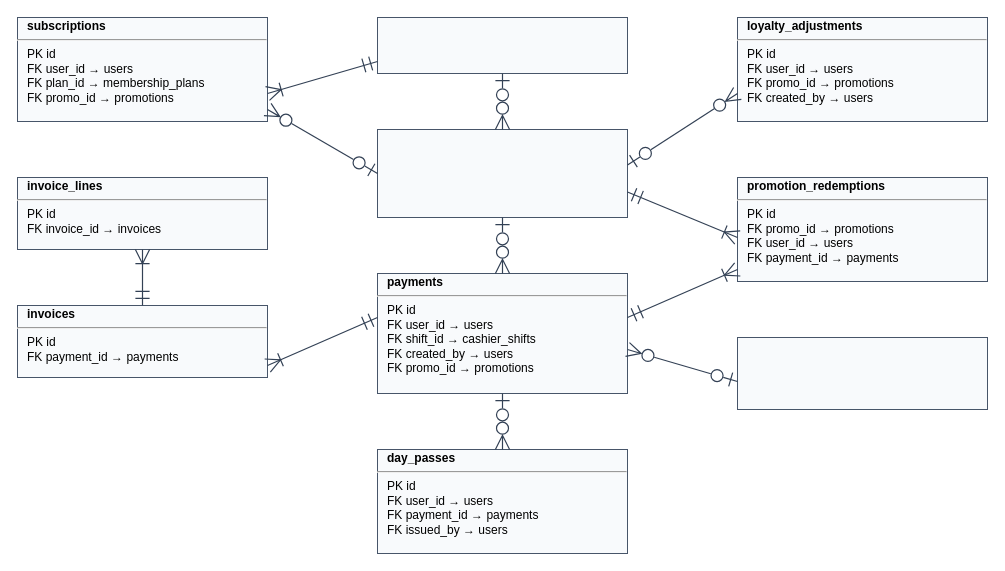
The diagram is 1005 pixels wide and 571 high, and some of its shapes have lost their labels. The shapes that lost their labels are listed below. From the top down, each one's centre as x and y in pixels, then its label:
At point (502, 45): "membership_plans PK id".
At point (502, 173): "promotions PK id FK plan_id → membership_plans FK created_by → users".
At point (862, 373): "cashier_shifts PK id FK receptionist_id → users".
